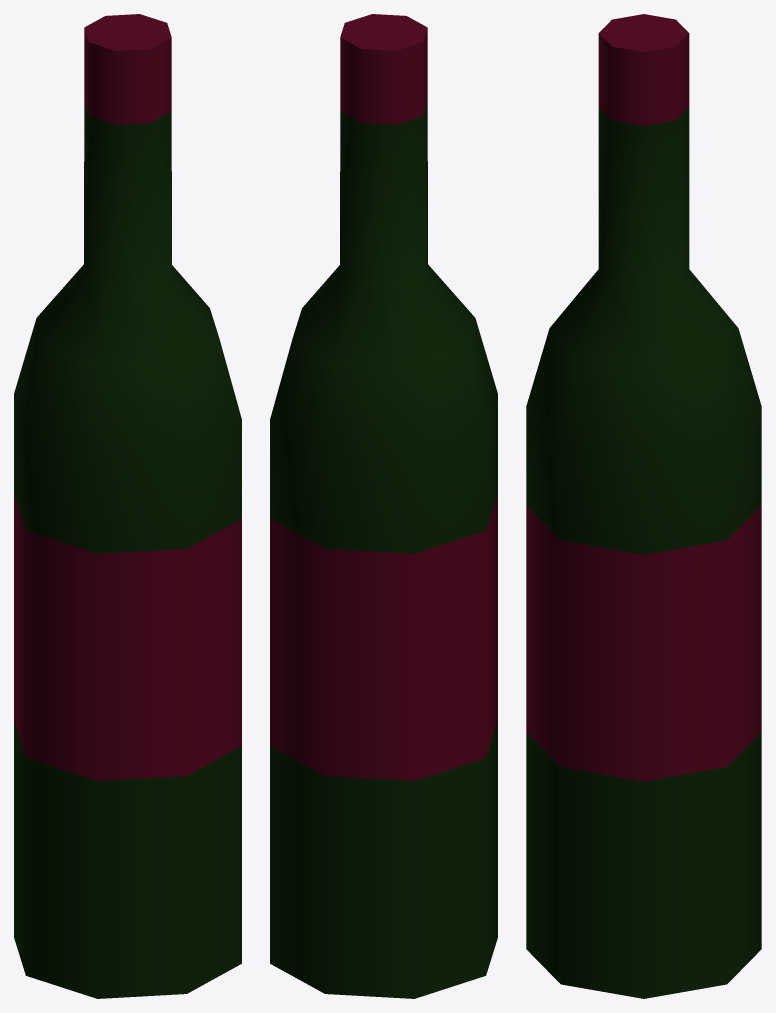
The model's file is Bottle.fbx.
3 views of the same model, side by side, from view 1: azimuth 30°, elevation 25°; view 2: azimuth 150°, elevation 25°; view 3: azimuth 270°, elevation 25° (orthographic).
Visible parts, largest first — view 1: Cylinder; view 2: Cylinder; view 3: Cylinder.
Part boxes in pixels (left/top/right/bottom): Cylinder: left=14, top=14, right=241, bottom=998; Cylinder: left=270, top=14, right=497, bottom=998; Cylinder: left=526, top=14, right=761, bottom=998.
Size of the model in its own units: 60.2 by 259 by 60.2.
